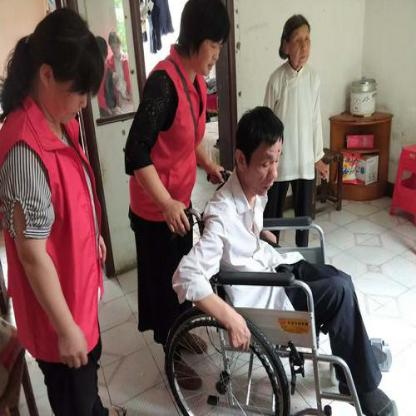wheelchair: (171, 106, 402, 415)
